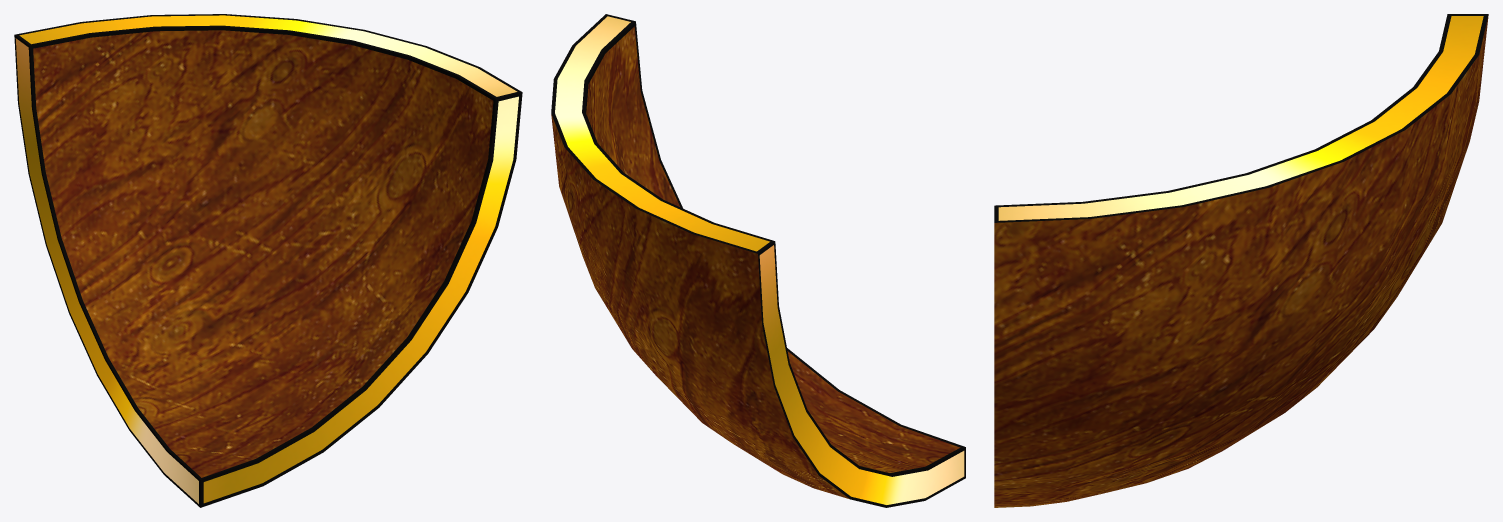
Rendered from jungle_quarter_corner.gltf.
The picture shows the model from 3 angles, left to right: view 1: azimuth 30°, elevation 25°; view 2: azimuth 150°, elevation 25°; view 3: azimuth 270°, elevation 25°; orthographic projection. The views are drawn at different scales.
Visible parts, largest first — view 1: jungle_quarter_corner_glb; view 2: jungle_quarter_corner_glb; view 3: jungle_quarter_corner_glb.
Part boxes in pixels (left/top/right/bottom): jungle_quarter_corner_glb: left=14, top=14, right=522, bottom=507; jungle_quarter_corner_glb: left=551, top=14, right=965, bottom=507; jungle_quarter_corner_glb: left=994, top=14, right=1488, bottom=507.
Size of what is drawn, in the model's own units: 3 by 3 by 3.
Materials: 1 (1 with a texture image).
